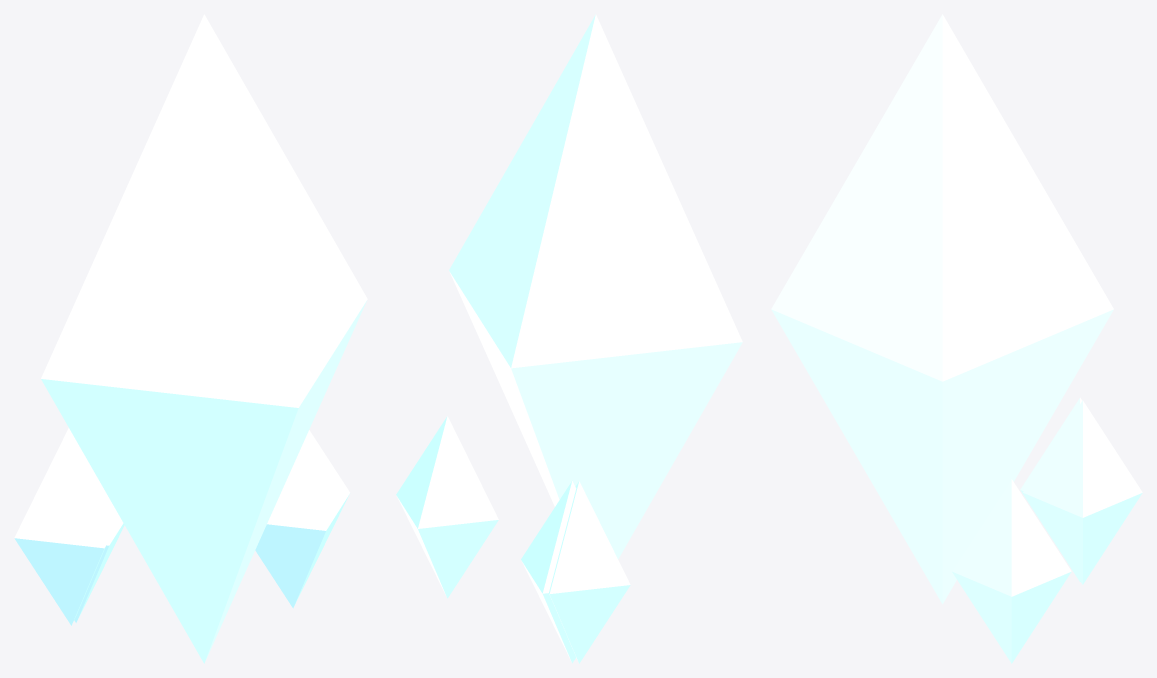
The model's file is crystal_0.glb.
3 views of the same model, side by side, from view 1: azimuth 30°, elevation 25°; view 2: azimuth 150°, elevation 25°; view 3: azimuth 270°, elevation 25° (orthographic). The views are drawn at different scales.
Visible parts, largest first — view 1: crystal_0; view 2: crystal_0; view 3: crystal_0.
Part boxes in pixels (x1,y1,x2,y2): crystal_0: (14,14,367,663); crystal_0: (396,14,742,663); crystal_0: (771,14,1142,663).
Size of the model in its own units: 0.8506 by 1.53 by 0.8671.
